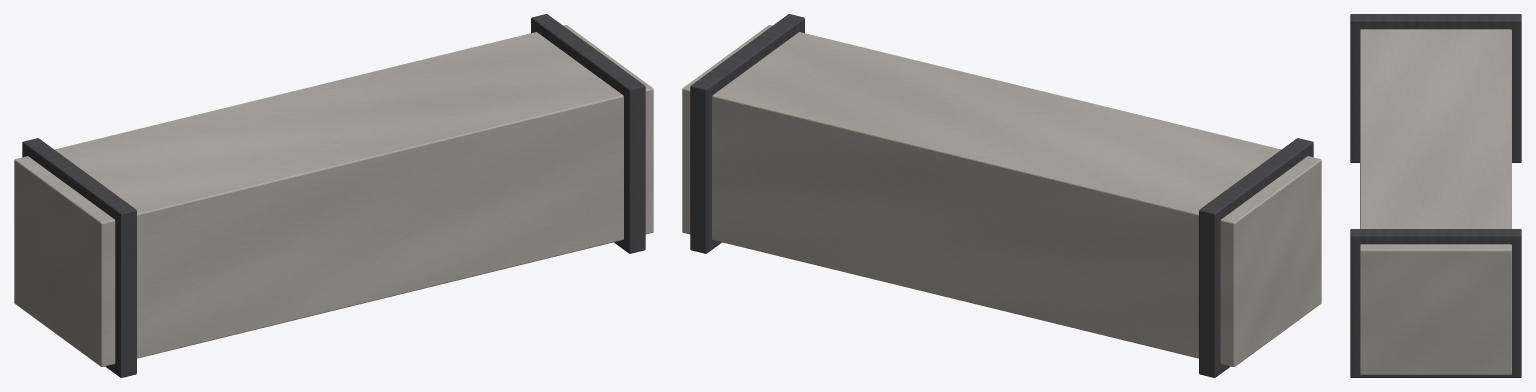
File: ceiling_duct.glb
The picture shows the model from 3 angles, left to right: view 1: azimuth 30°, elevation 25°; view 2: azimuth 150°, elevation 25°; view 3: azimuth 270°, elevation 25°; orthographic projection. The views are drawn at different scales.
Parts seen in each view (by area): view 1: duct, flange.001, flange; view 2: duct, flange.001, flange; view 3: duct, flange.001, flange.
Part boxes in pixels (x1,y1,x2,y2): duct: (14,25,653,366); flange.001: (531,14,645,253); flange: (22,138,136,377); duct: (682,25,1321,366); flange.001: (690,14,804,253); flange: (1199,138,1313,377); duct: (1360,29,1511,374); flange.001: (1350,229,1521,377); flange: (1350,14,1521,162).
Bounding box in the file's own units: 2 × 0.57 × 0.62.
2 materials, 2 textured.
